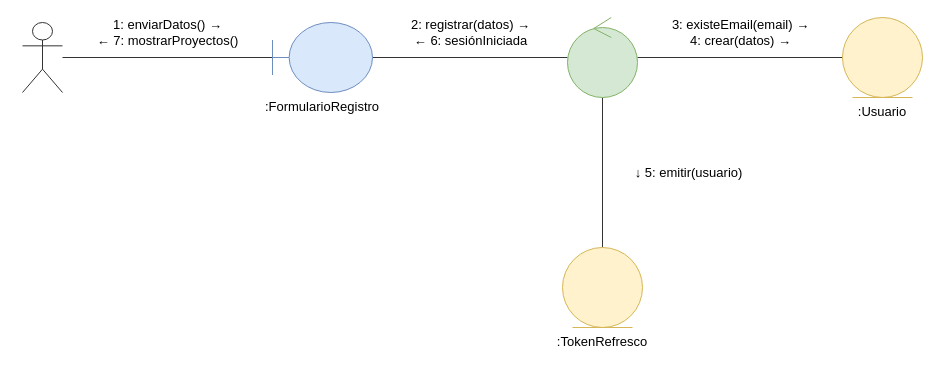
This 940x368 diagram has some shape labels left out. The shapes that lost their labels are listed below. From the top down, each one's centre as x and y in pixels, then its label:
pixel 42 57: Visitante
pixel 602 57: :GestorAutenticación
